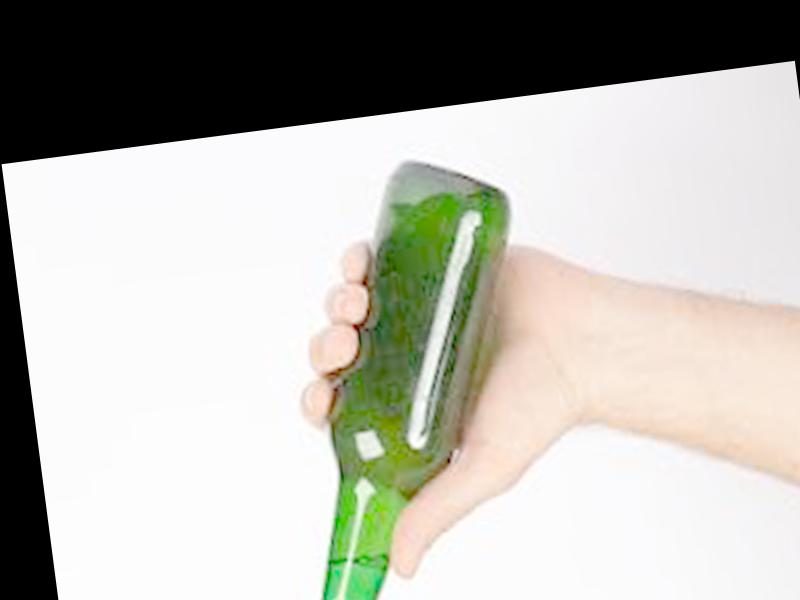Beer: (254, 153, 565, 600)
